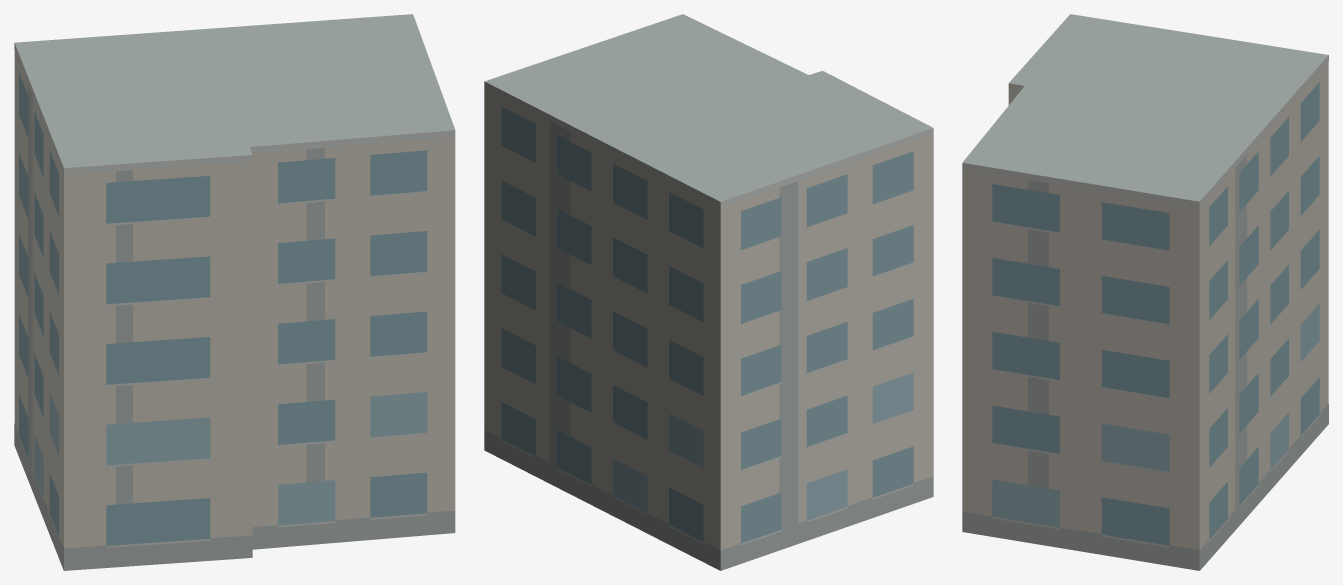
The model's file is survey-upis-32894272.glb.
3 renders of one model, left to right at view 1: azimuth 30°, elevation 25°; view 2: azimuth 150°, elevation 25°; view 3: azimuth 270°, elevation 25°, orthographic. The views are drawn at different scales.
Visible parts, largest first — view 1: survey-upis-32894272.tmp; view 2: survey-upis-32894272.tmp; view 3: survey-upis-32894272.tmp.
Boxes of the visible parts, x1,y1,x2,y2 form: survey-upis-32894272.tmp: (14, 14, 455, 570); survey-upis-32894272.tmp: (484, 14, 933, 570); survey-upis-32894272.tmp: (962, 14, 1328, 570).
Size of the model in its own units: 15.77 by 14.45 by 13.01.
